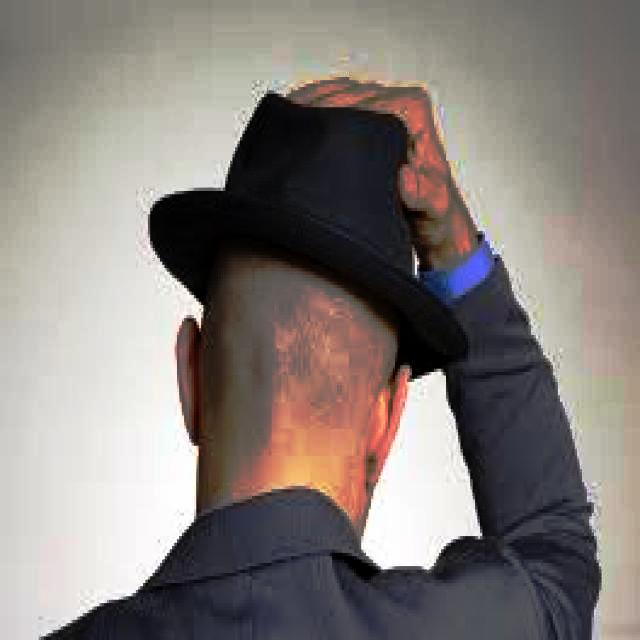TOPI: (148, 82, 474, 378)
